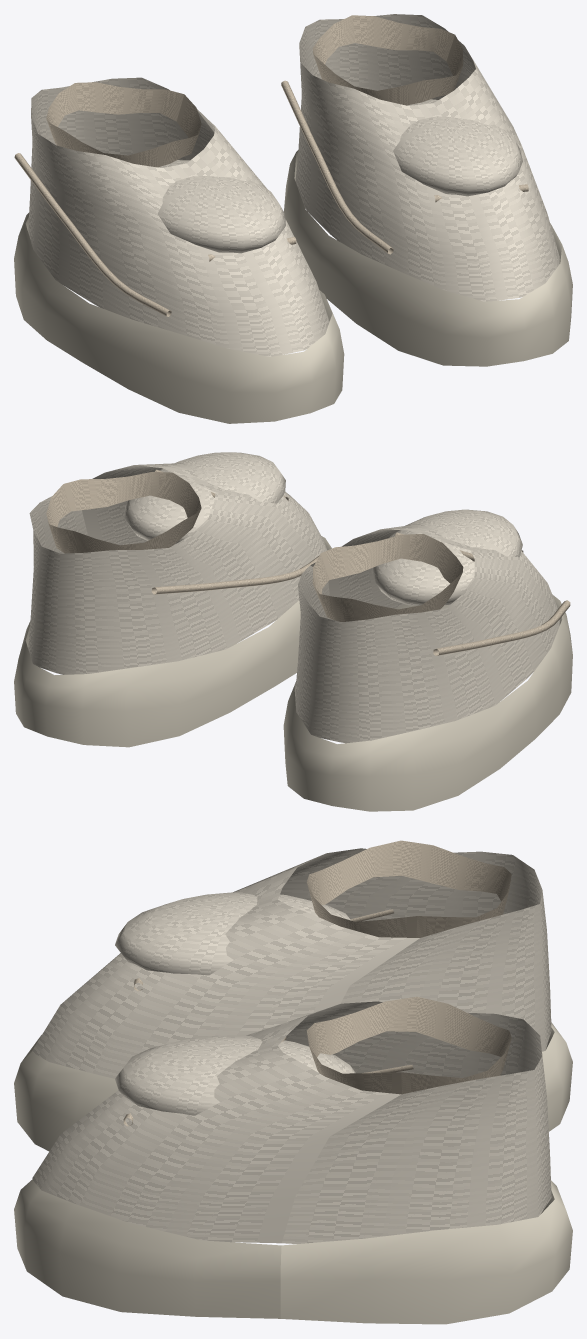
The picture shows the model from 3 angles, top to bottom: view 1: azimuth 30°, elevation 25°; view 2: azimuth 150°, elevation 25°; view 3: azimuth 270°, elevation 25°; orthographic projection. The views are drawn at different scales.
Visible parts, largest first — view 1: fabric_cream, rubber_ivory, fabric_linen; view 2: fabric_cream, rubber_ivory, fabric_linen; view 3: fabric_cream, rubber_ivory, fabric_linen.
Boxes of the visible parts, <box> form: fabric_cream: <box>28,14,559,356</box>; rubber_ivory: <box>14,150,572,423</box>; fabric_linen: <box>14,15,528,316</box>; fabric_cream: <box>28,452,559,743</box>; rubber_ivory: <box>14,536,572,811</box>; fabric_linen: <box>46,469,570,655</box>; fabric_cream: <box>32,848,551,1243</box>; rubber_ivory: <box>14,1022,572,1324</box>; fabric_linen: <box>123,840,511,1126</box>.
Bounding box in the file's own units: 0.3842 × 0.1592 × 0.3366.
3 materials, 2 textured.
